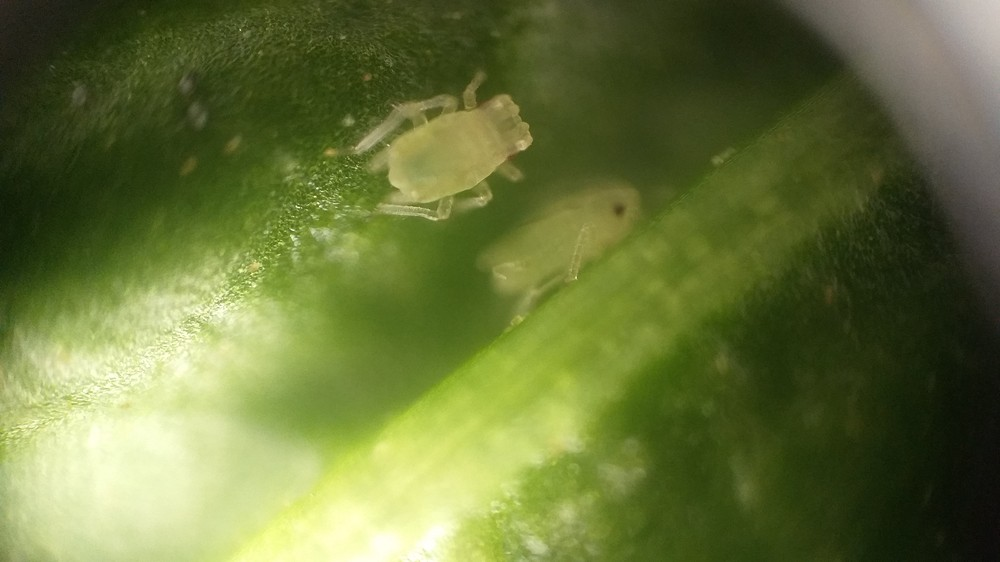Pulgon: (326, 68, 544, 229), (463, 172, 667, 306)
